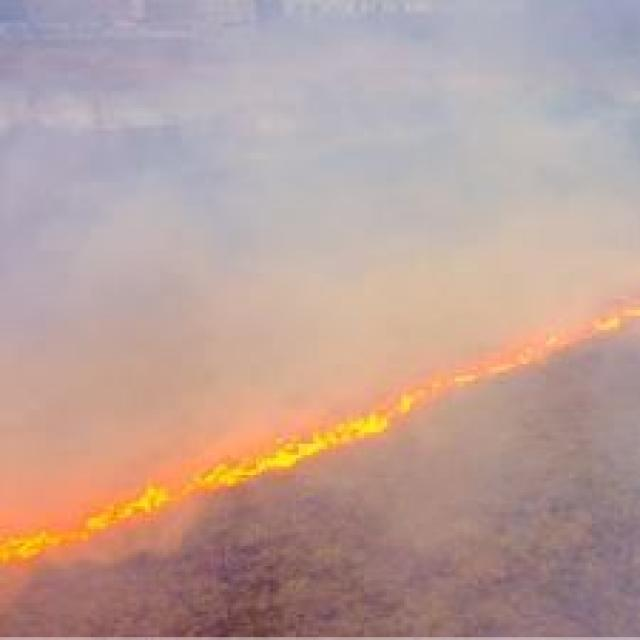Fire: (9, 438, 347, 569), (353, 326, 612, 442)
Smoke: (25, 61, 602, 422)
